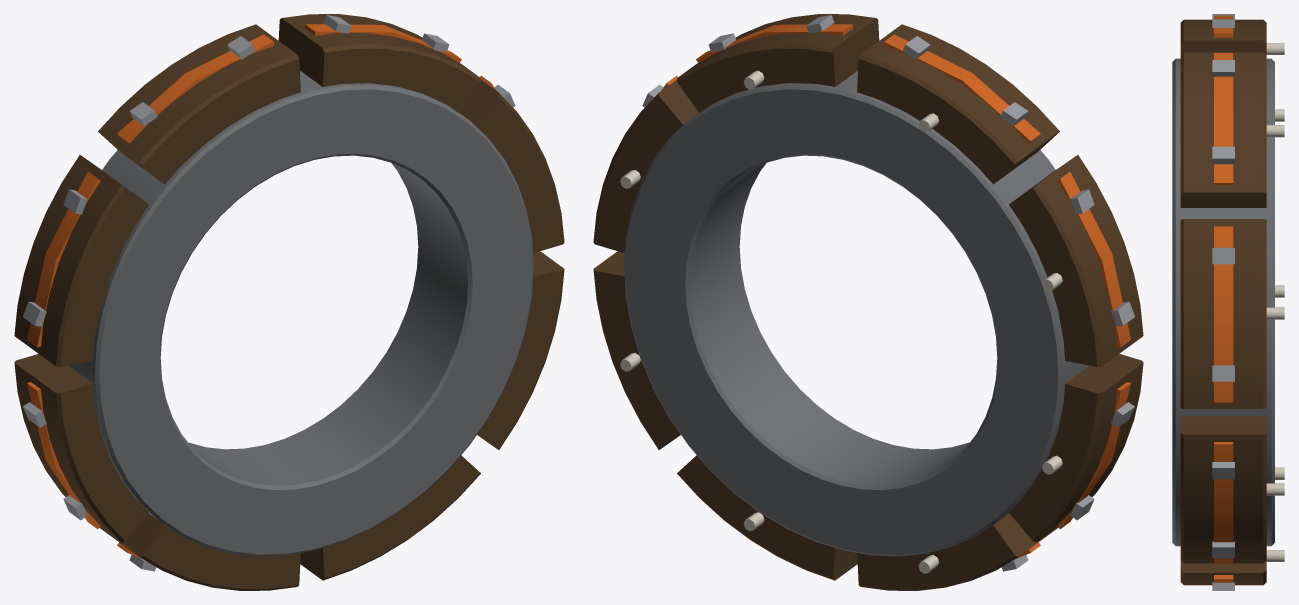
The model's file is u33_coil_ring.obj.
3 renders of one model, left to right at view 1: azimuth 30°, elevation 25°; view 2: azimuth 150°, elevation 25°; view 3: azimuth 270°, elevation 25°, orthographic. The views are drawn at different scales.
Parts seen in each view (by area): view 1: u33_coil_ring; view 2: u33_coil_ring; view 3: u33_coil_ring.
Part boxes in pixels (x1=…): u33_coil_ring: x1=14, y1=14, x2=564, y2=590; u33_coil_ring: x1=593, y1=14, x2=1143, y2=590; u33_coil_ring: x1=1172, y1=14, x2=1284, y2=590.
Bounding box in the file's own units: 3.56 × 3.56 × 0.69.
